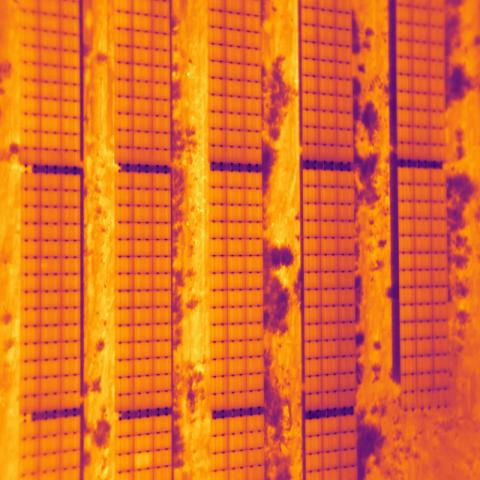fault: (135, 453, 154, 469)
